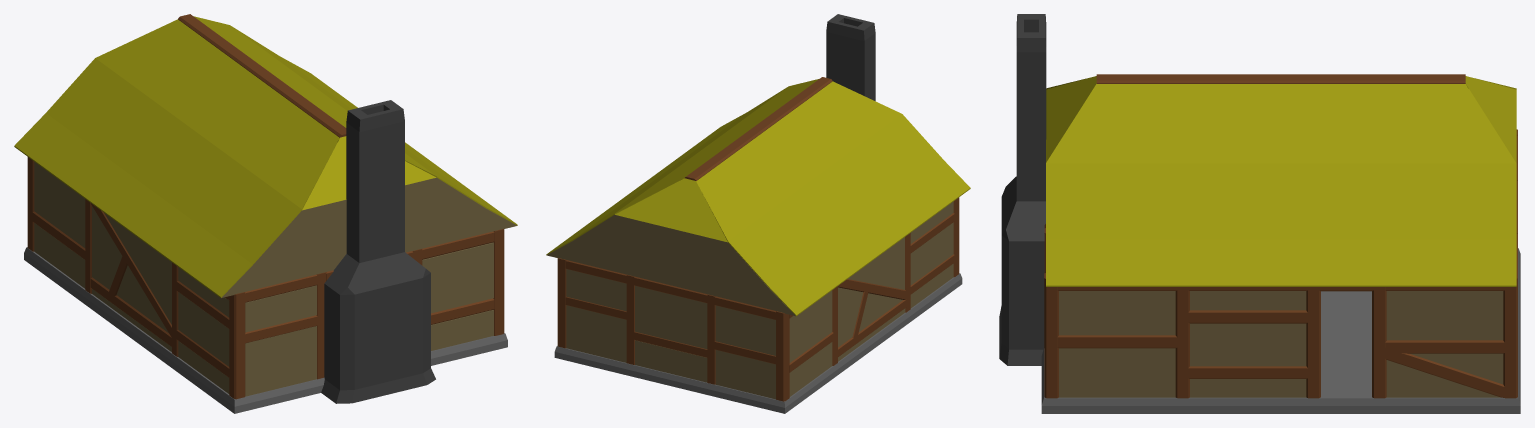
The model's file is House_Clean.fbx.
3 views of the same model, side by side, from view 1: azimuth 30°, elevation 25°; view 2: azimuth 150°, elevation 25°; view 3: azimuth 270°, elevation 25° (orthographic). The views are drawn at different scales.
Parts seen in each view (by area): view 1: Cube.004, Cube, Cube.002, Base, Cube.014, Cube.003, Cube.024, Cube.027, Cube.005, BalkenF.040, Cube.026, Cube.030 (+21 smaller); view 2: Cube.004, Cube.001, Base, Cube.003, Cube, Cube.029, Cube.020, Cube.014, Cube.025, Cube.022, Cube.023, Cube.005 (+25 smaller); view 3: Cube.003, Base, Cube, Cube.012, Cube.007, Cube.006, Cube.011, Cube.013, BalkenF.040, Cube.010, Cube.009, Cube.029 (+14 smaller).
Part boxes in pixels (x1,y1,x2,y2): Cube.004: (14,19,339,297); Cube: (321,100,435,403); Cube.002: (221,177,517,297); Base: (24,247,507,413); Cube.014: (92,206,171,332); Cube.003: (194,16,517,225); Cube.024: (245,326,316,396); Cube.027: (422,242,493,313); Cube.005: (34,162,85,247); BalkenF.040: (178,14,346,137); Cube.026: (245,285,316,332); Cube.030: (302,136,436,210); Cube.004: (696,81,970,316); Cube.001: (547,215,795,316); Base: (554,273,962,413); Cube.003: (546,79,818,255); Cube: (826,14,875,101); Cube.029: (615,178,727,242); Cube.020: (635,286,707,348); Cube.014: (838,237,904,347); Cube.025: (566,305,626,362); Cube.022: (715,305,775,355); Cube.023: (715,350,775,399); Cube.005: (789,290,832,362); Cube.003: (1046,84,1516,286); Base: (1041,248,1520,413); Cube: (999,14,1046,365); Cube.012: (1386,291,1503,340); Cube.007: (1059,348,1175,397); Cube.006: (1059,291,1175,335); Cube.011: (1190,323,1306,366); Cube.013: (1386,353,1503,397); BalkenF.040: (1096,74,1465,83); Cube.010: (1190,291,1306,310); Cube.009: (1190,379,1306,397); Cube.029: (1465,76,1516,162).
Size of the model in its own units: 651 by 575 by 871.
